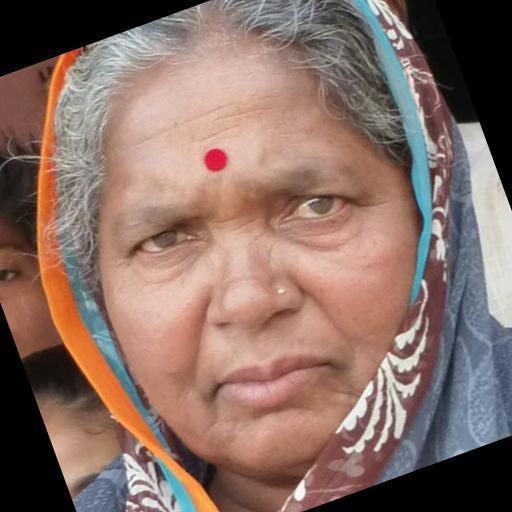Sober: (109, 61, 414, 448)
